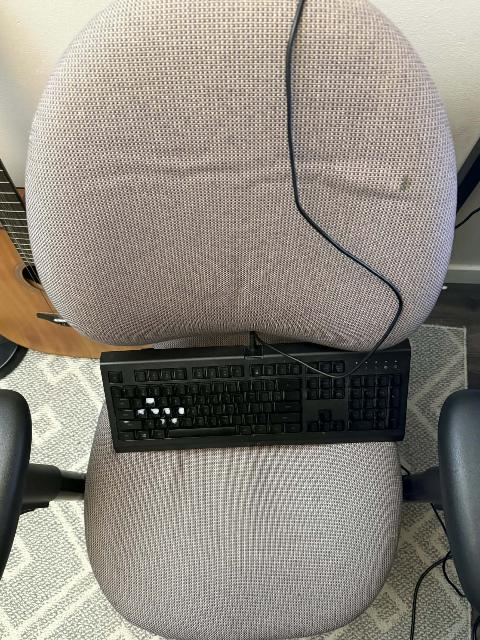ahkeyboard: (97, 332, 416, 460)
